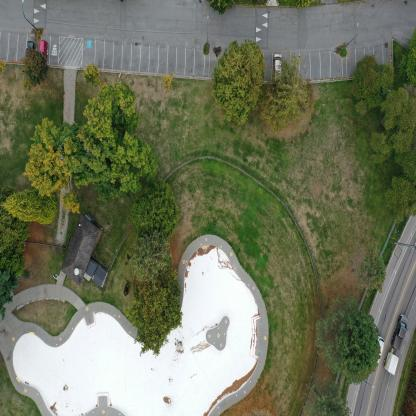Coniferous Tree: (318, 304, 382, 395), (213, 40, 263, 124), (133, 273, 183, 350), (266, 64, 315, 129), (351, 56, 399, 113), (133, 176, 179, 230), (4, 184, 59, 228), (302, 378, 356, 416), (133, 228, 167, 283), (390, 172, 416, 223), (361, 245, 387, 294), (405, 28, 416, 84)
Deciduous Tree: (79, 78, 138, 182), (93, 127, 160, 204), (23, 118, 84, 195), (380, 92, 416, 171), (22, 51, 42, 84), (204, 0, 235, 15), (82, 63, 100, 85), (158, 74, 174, 88)
